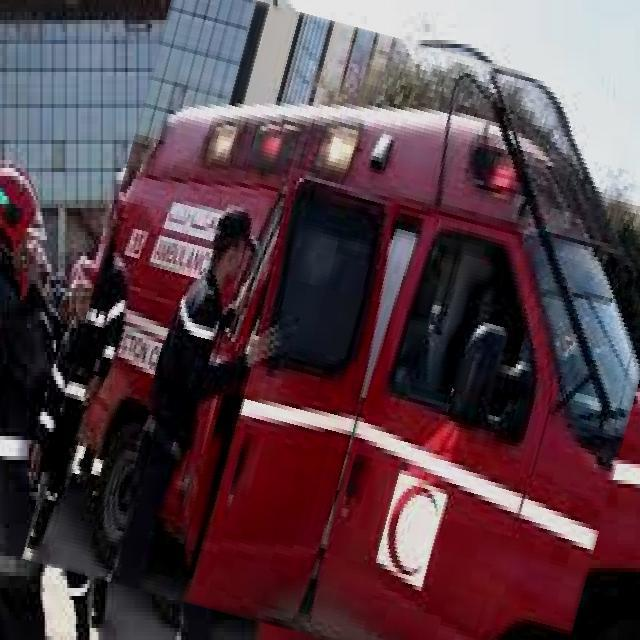ambulance: (55, 9, 640, 640)
